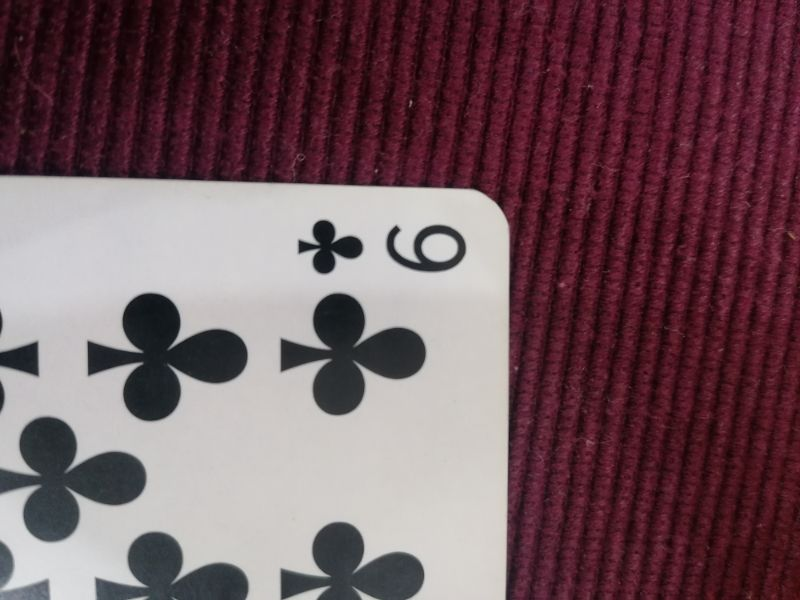9c: (295, 216, 472, 277)
